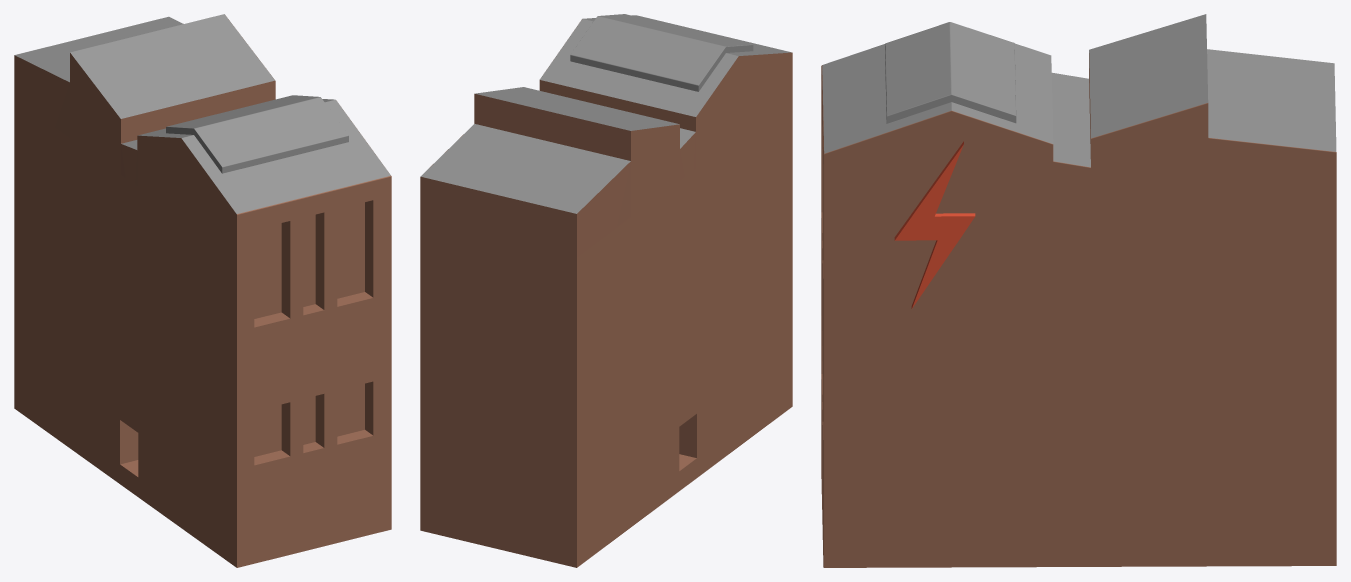
Rendered from ketelhuis.glb.
The picture shows the model from 3 angles, left to right: view 1: azimuth 30°, elevation 25°; view 2: azimuth 150°, elevation 25°; view 3: azimuth 270°, elevation 25°; orthographic projection. The views are drawn at different scales.
Visible parts, largest first — view 1: Cube.009, Cube.023; view 2: Cube.009, Cube.023; view 3: Cube.009, Cube.023, Cube.025.
Part boxes in pixels (x1,y1,x2,y2): Cube.009: (14,14,391,567); Cube.023: (166,95,348,173); Cube.009: (420,15,792,567); Cube.023: (570,14,753,91); Cube.009: (821,14,1336,567); Cube.023: (885,22,1016,123); Cube.025: (894,141,975,308).
Size of the model in its own units: 0.9759 by 2.25 by 2.27.
